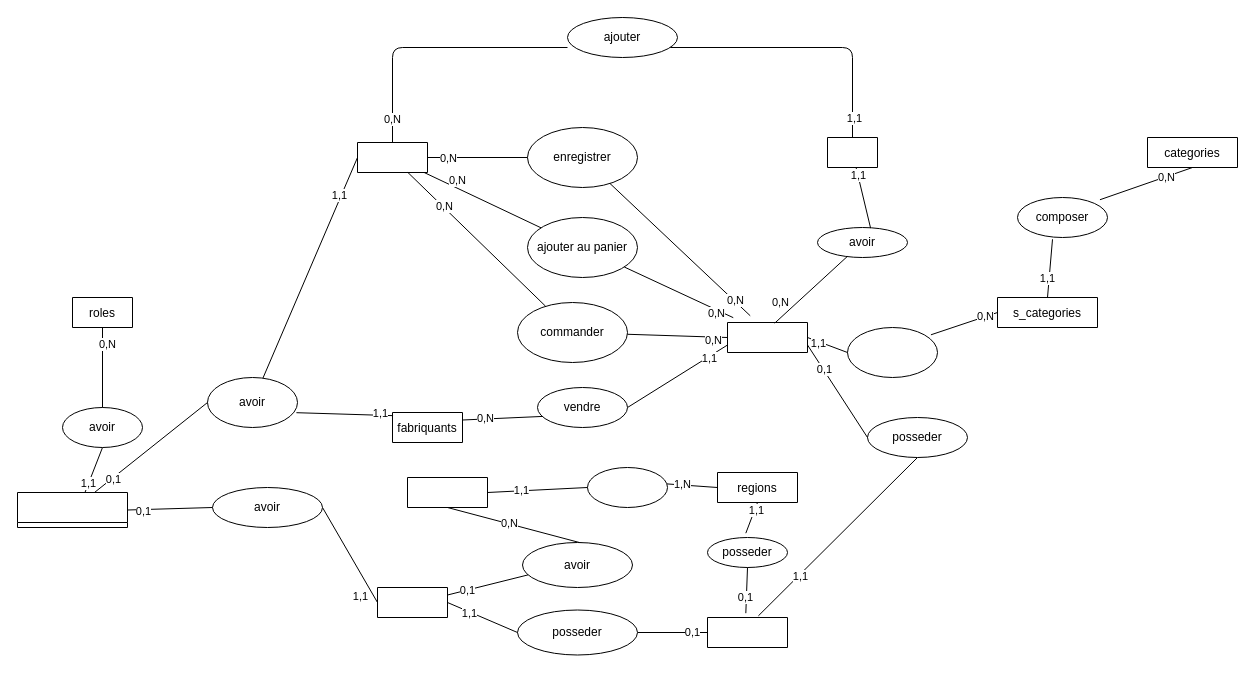
This 1255x673 diagram has some shape labels left out. Here are the shapes that lost their labels. From the top down, the centre of each, then its label:
At (392,157): "clients".
At (852,152): "avis".
At (767,337): "produits".
At (892,352): "appartenir".
At (447,492): "villes".
At (627,487): "situer".
At (72,510): "users/account".
At (412,602): "users_data".
At (747,632): "images".
